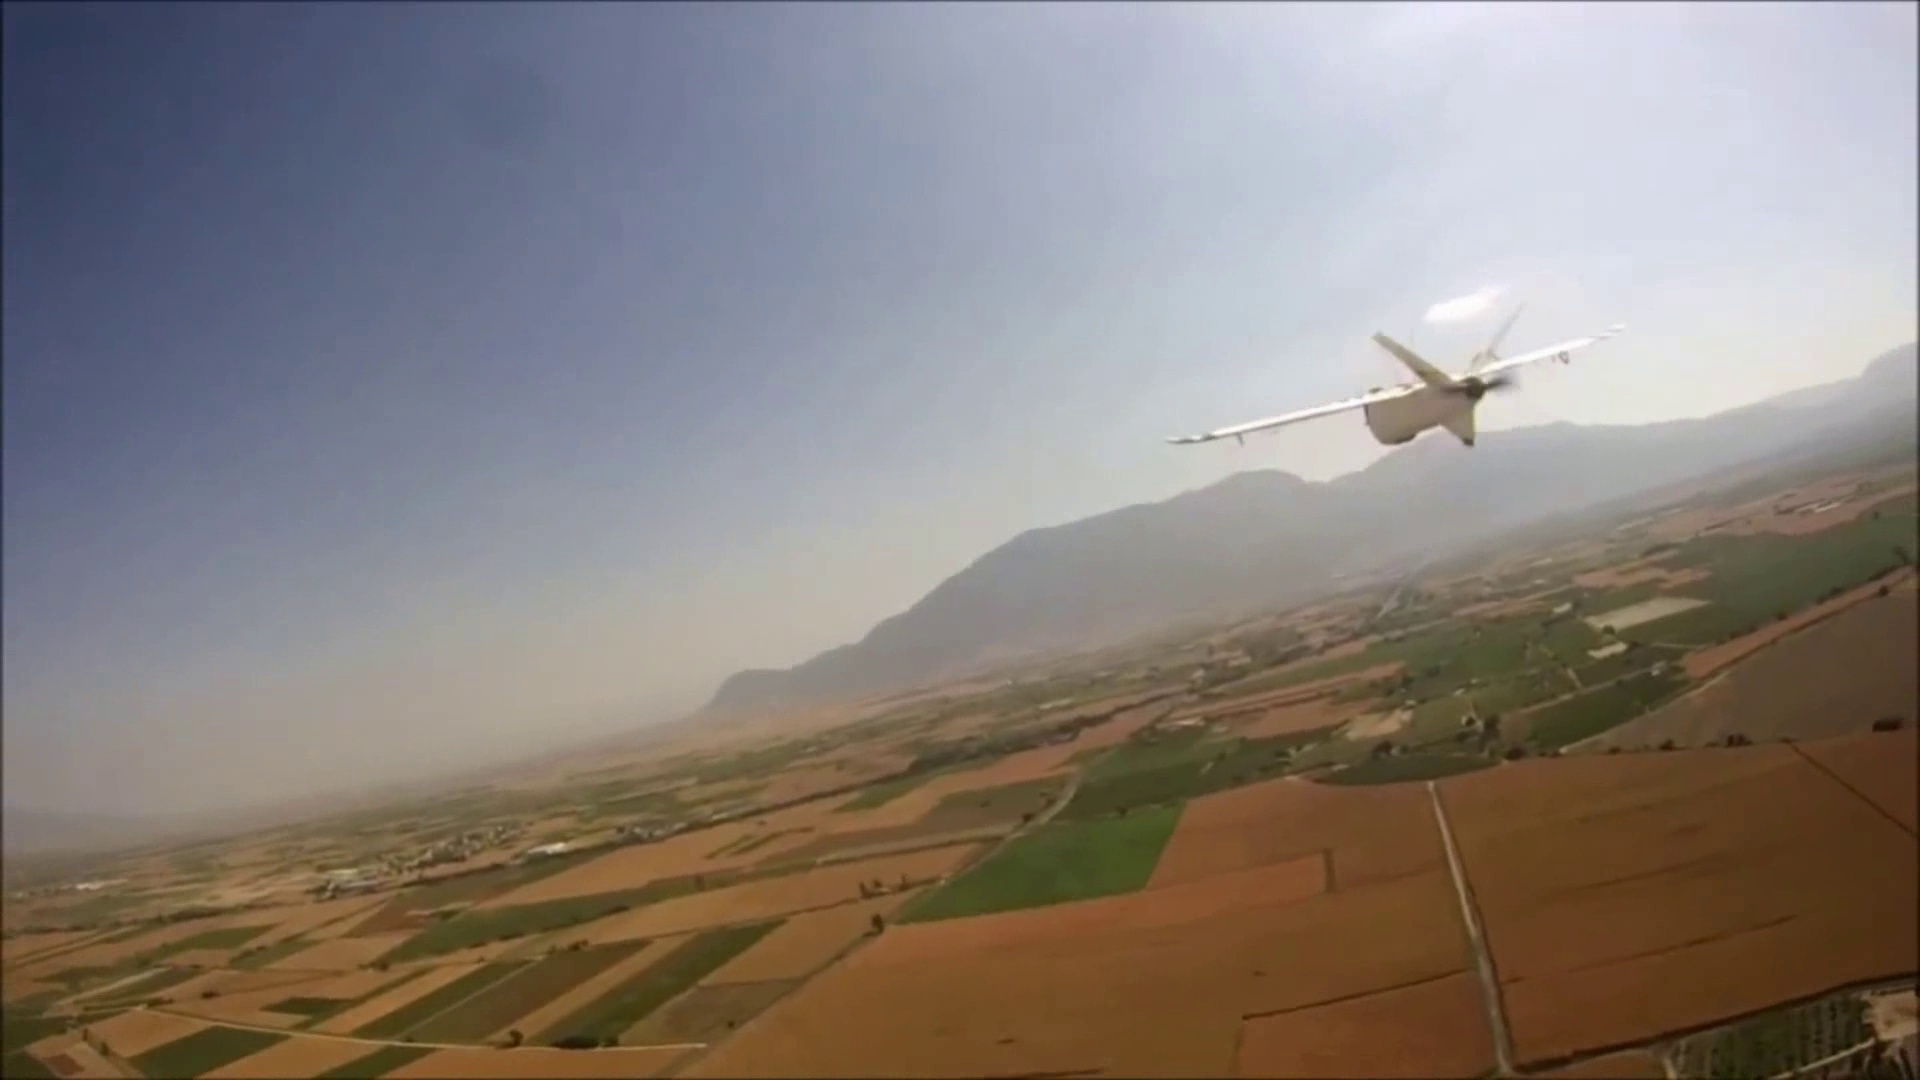airplane: (1166, 302, 1623, 469)
